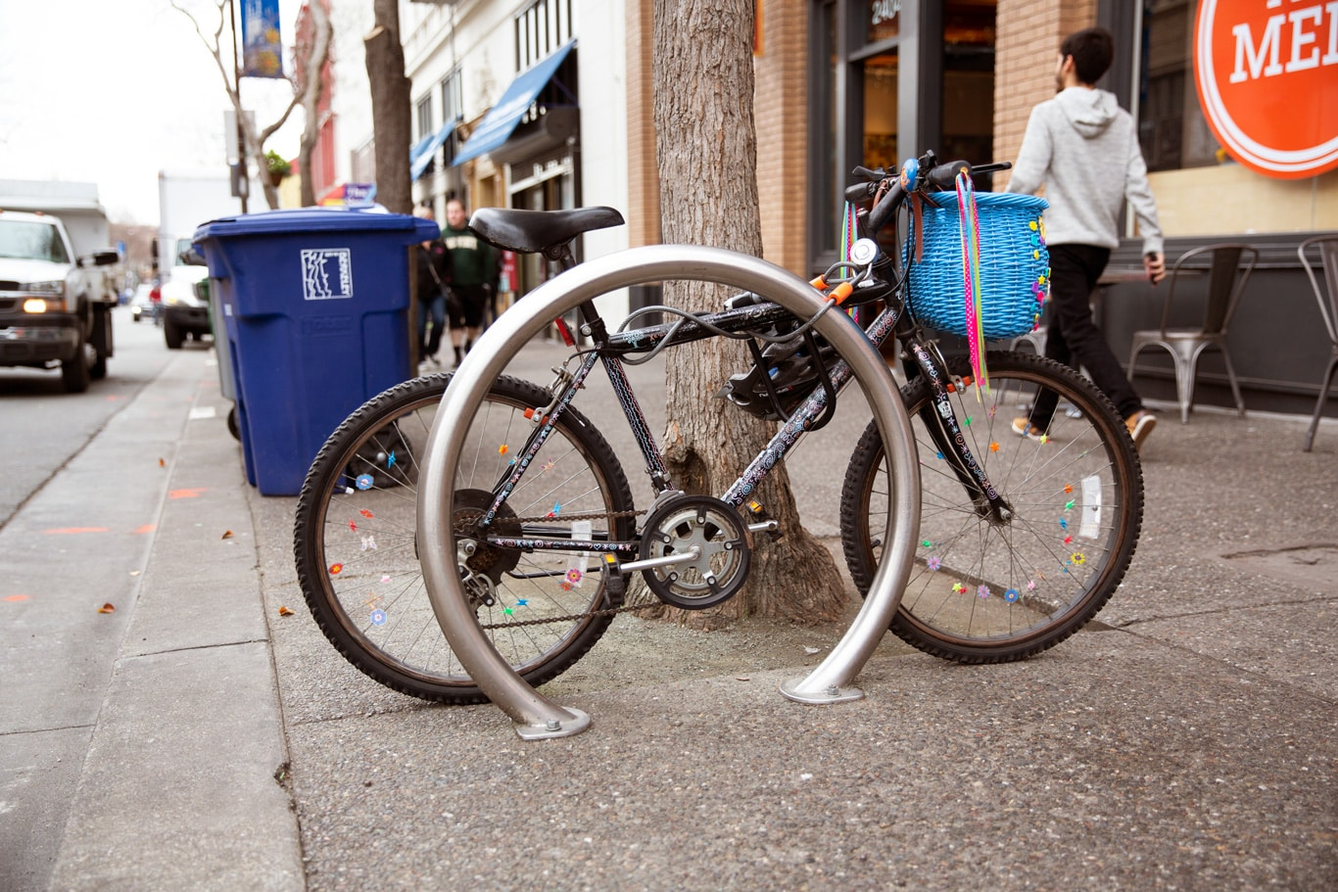Bicycle: (288, 206, 1155, 686)
Person: (1025, 33, 1168, 452)
TrashBin: (173, 204, 425, 506)
